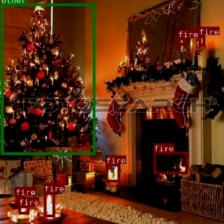fire: (153, 152, 187, 174), (105, 163, 120, 182), (44, 192, 54, 216), (18, 205, 29, 214), (198, 34, 204, 46), (14, 196, 24, 203), (177, 37, 185, 45)
